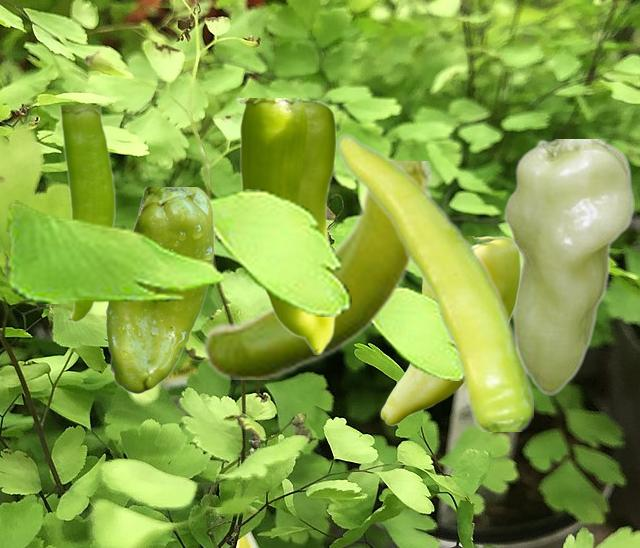green_chili: (336, 131, 532, 430), (200, 161, 434, 378), (501, 139, 633, 394), (380, 236, 520, 425), (235, 98, 335, 353), (105, 187, 213, 393), (58, 105, 114, 322)
